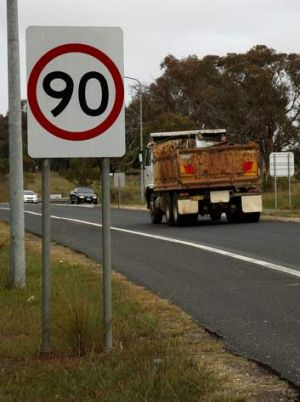Speed_limit_90km: (26, 44, 125, 140)
